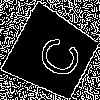C: (26, 28, 85, 82)
